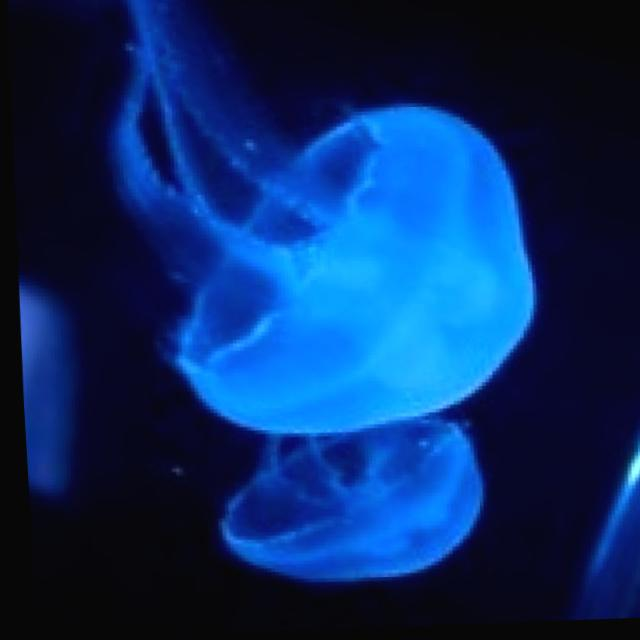Moon-jellyfish: (92, 25, 567, 457), (204, 410, 487, 594)
